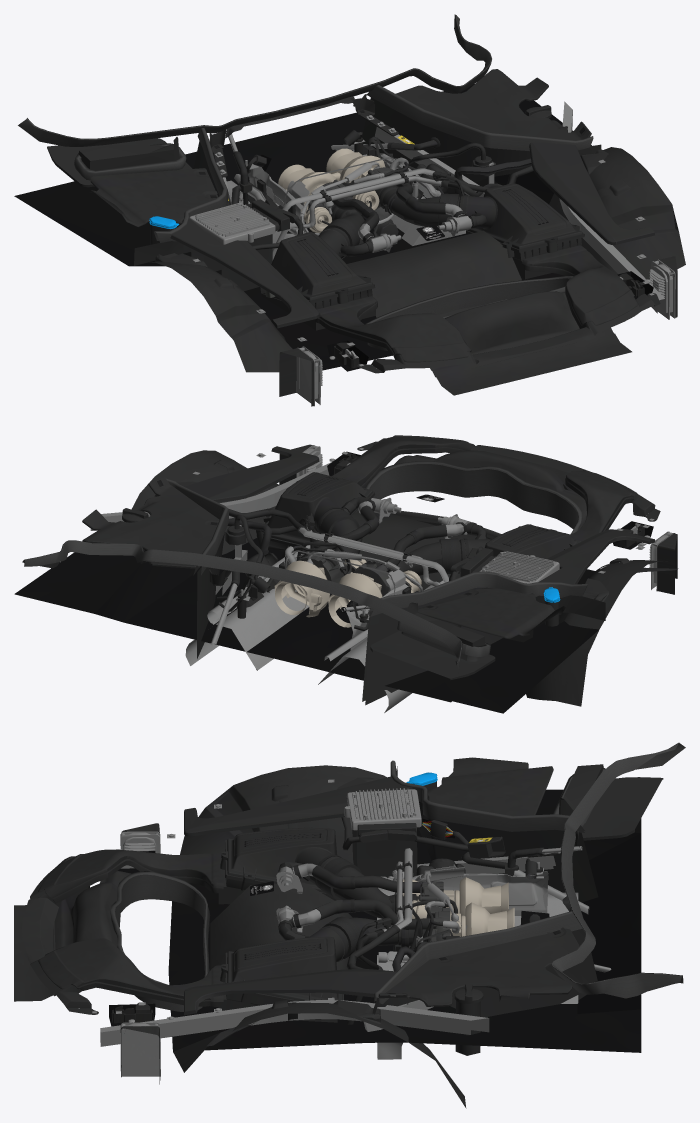
The model's file is amg-v8.glb.
3 renders of one model, top to bottom at view 1: azimuth 30°, elevation 25°; view 2: azimuth 150°, elevation 25°; view 3: azimuth 270°, elevation 25°, orthographic. The views are drawn at different scales.
Visible parts, largest first — view 1: Object_4; view 2: Object_4; view 3: Object_4.
Part boxes in pixels (x1,y1,x2,y2): Object_4: [14, 14, 685, 406]; Object_4: [14, 435, 678, 713]; Object_4: [14, 742, 685, 1108].
Size of the model in its own units: 1.62 by 0.4793 by 1.74.
Materials: 1 (1 with a texture image).
